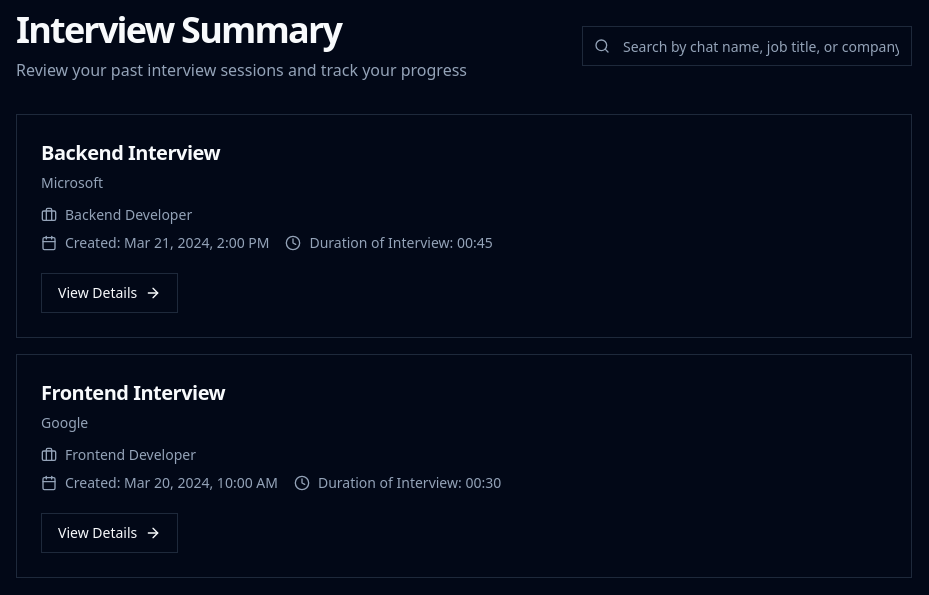
Scenario: SummaryPage › filters sessions based on search term
Expected: the text "Frontend Developer" is shown, 41,445 -> 196,465
Type "Frontend" into the field with placeholder "Search by chat name, job title, or company". click: (747, 46)
box: 582,26 -> 912,66
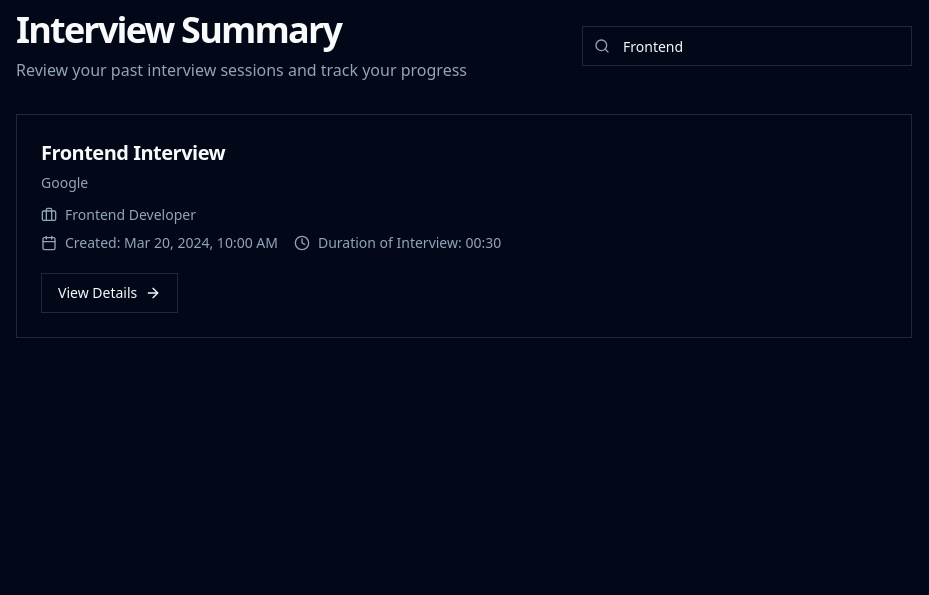
Expected: the text "Frontend Developer" is shown, 41,205 -> 196,225
Expected: the text "Backend Developer" is gone
